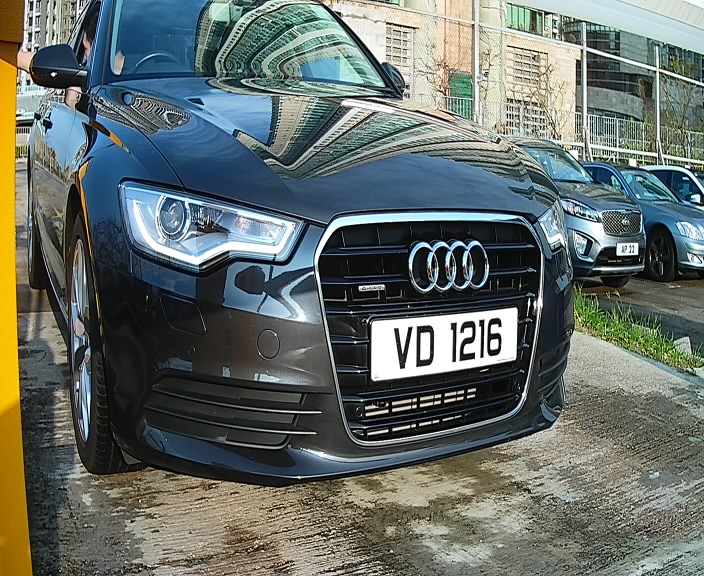Car: (5, 2, 592, 489)
License Plate: (359, 299, 533, 386)
